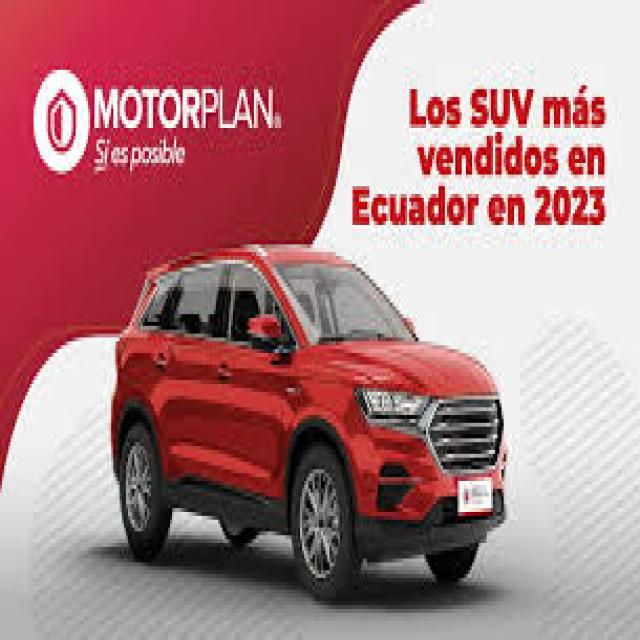SUV: (104, 236, 505, 602)
